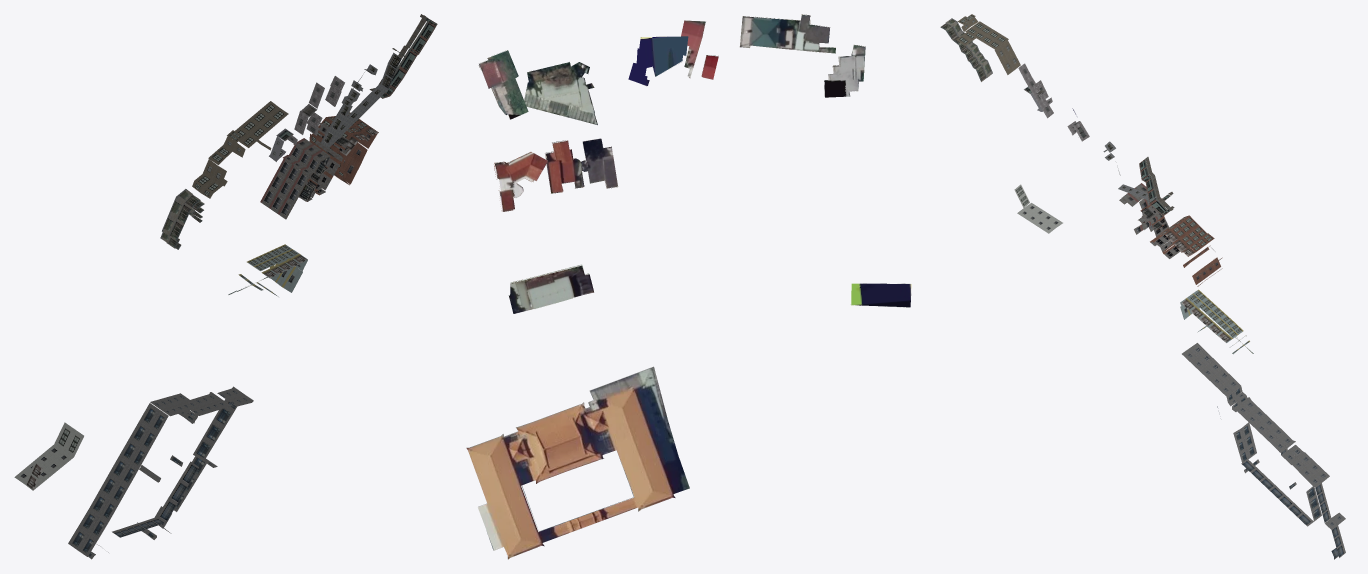
The model's file is tile_LOD4_r14_c4.glb.
3 views of the same model, side by side, from view 1: azimuth 30°, elevation 25°; view 2: azimuth 150°, elevation 25°; view 3: azimuth 270°, elevation 25° (orthographic). The views are drawn at different scales.
Bounding box in the file's own units: 171 × 199 × 156.
Materials: 54 (54 with a texture image).
